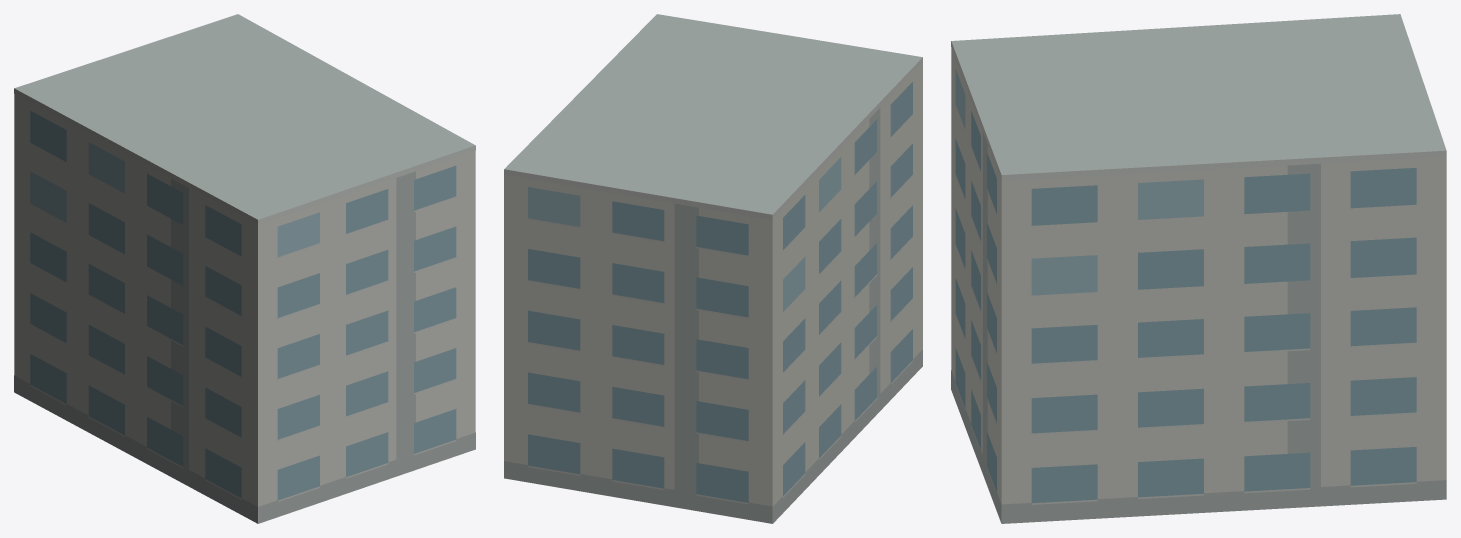
Rendered from survey-upis-32631816.glb.
The picture shows the model from 3 angles, left to right: view 1: azimuth 30°, elevation 25°; view 2: azimuth 150°, elevation 25°; view 3: azimuth 270°, elevation 25°; orthographic projection. The views are drawn at different scales.
Parts seen in each view (by area): view 1: survey-upis-32631816.tmp; view 2: survey-upis-32631816.tmp; view 3: survey-upis-32631816.tmp.
Boxes of the visible parts, left/top/right/bottom form: survey-upis-32631816.tmp: left=14, top=14, right=475, bottom=523; survey-upis-32631816.tmp: left=504, top=14, right=922, bottom=523; survey-upis-32631816.tmp: left=951, top=14, right=1446, bottom=523.
Bounding box in the file's own units: 13.63 × 13.75 × 17.71.
